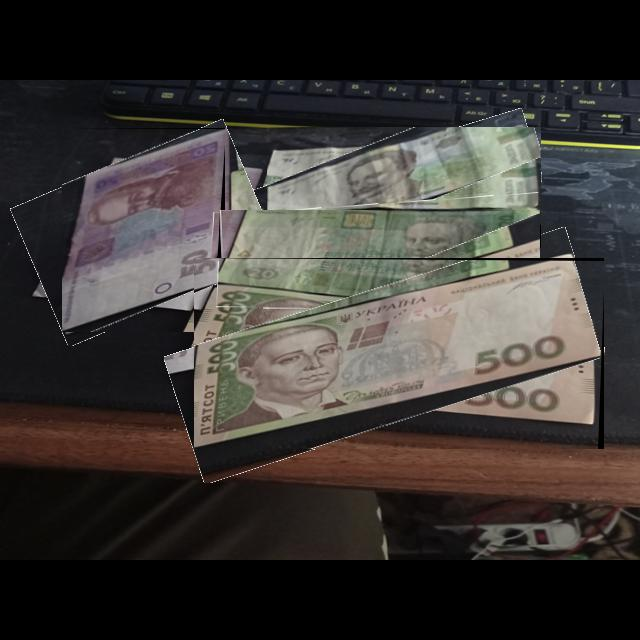20uah: (267, 127, 542, 249), (222, 210, 541, 295)
500uah: (194, 260, 603, 449)
50uah: (62, 130, 226, 331)
